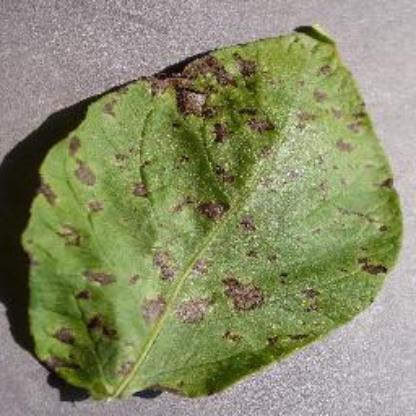Early-Blight: (18, 23, 404, 404)
